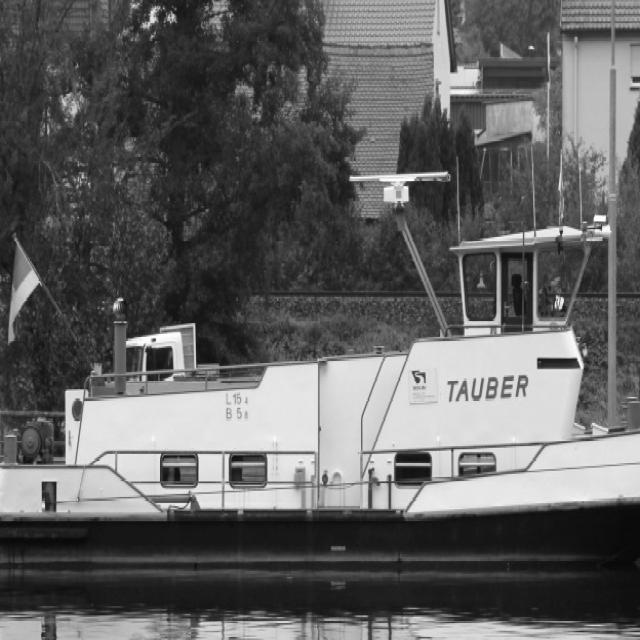tugboat: (1, 167, 640, 598)
